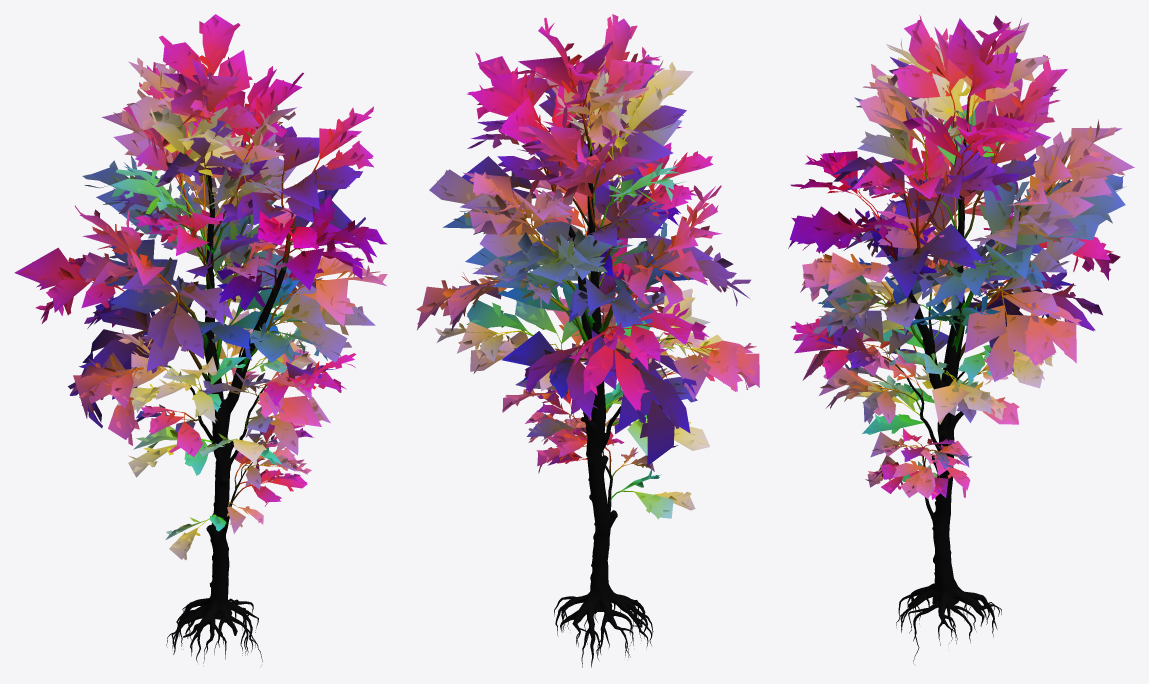
The model's file is SM_EuropeanBeech_XL_01.fbx.
3 renders of one model, left to right at view 1: azimuth 30°, elevation 25°; view 2: azimuth 150°, elevation 25°; view 3: azimuth 270°, elevation 25°, orthographic. The views are drawn at different scales.
Visible parts, largest first — view 1: SM_EuropeanBeech_XL_01_LOD0; view 2: SM_EuropeanBeech_XL_01_LOD0; view 3: SM_EuropeanBeech_XL_01_LOD0.
Part boxes in pixels (<box>): SM_EuropeanBeech_XL_01_LOD0: <box>14,14,387,665</box>; SM_EuropeanBeech_XL_01_LOD0: <box>416,14,759,667</box>; SM_EuropeanBeech_XL_01_LOD0: <box>788,15,1134,664</box>.
Bounding box in the file's own units: 1309 × 1345 × 2781.
